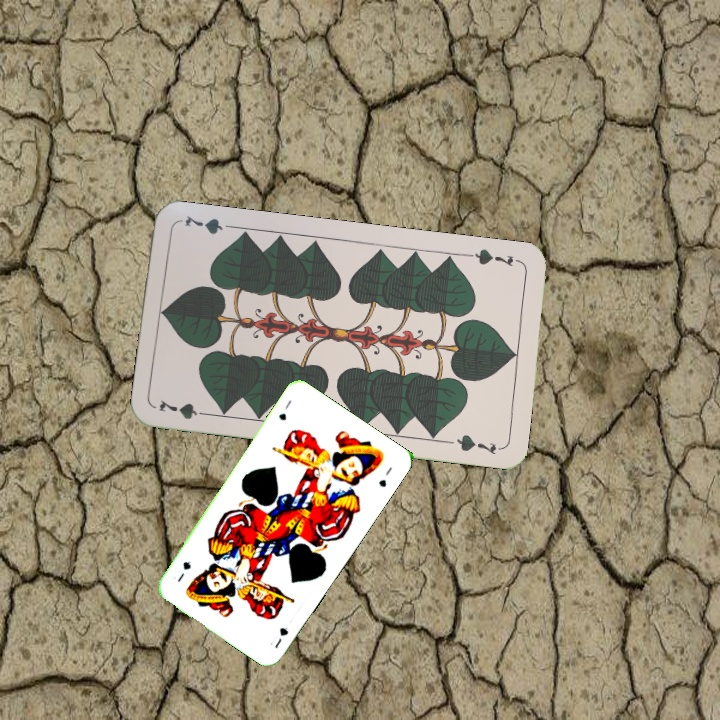G7: (155, 396, 213, 422), (465, 245, 524, 269)
GU: (266, 623, 291, 651), (274, 396, 294, 423)
